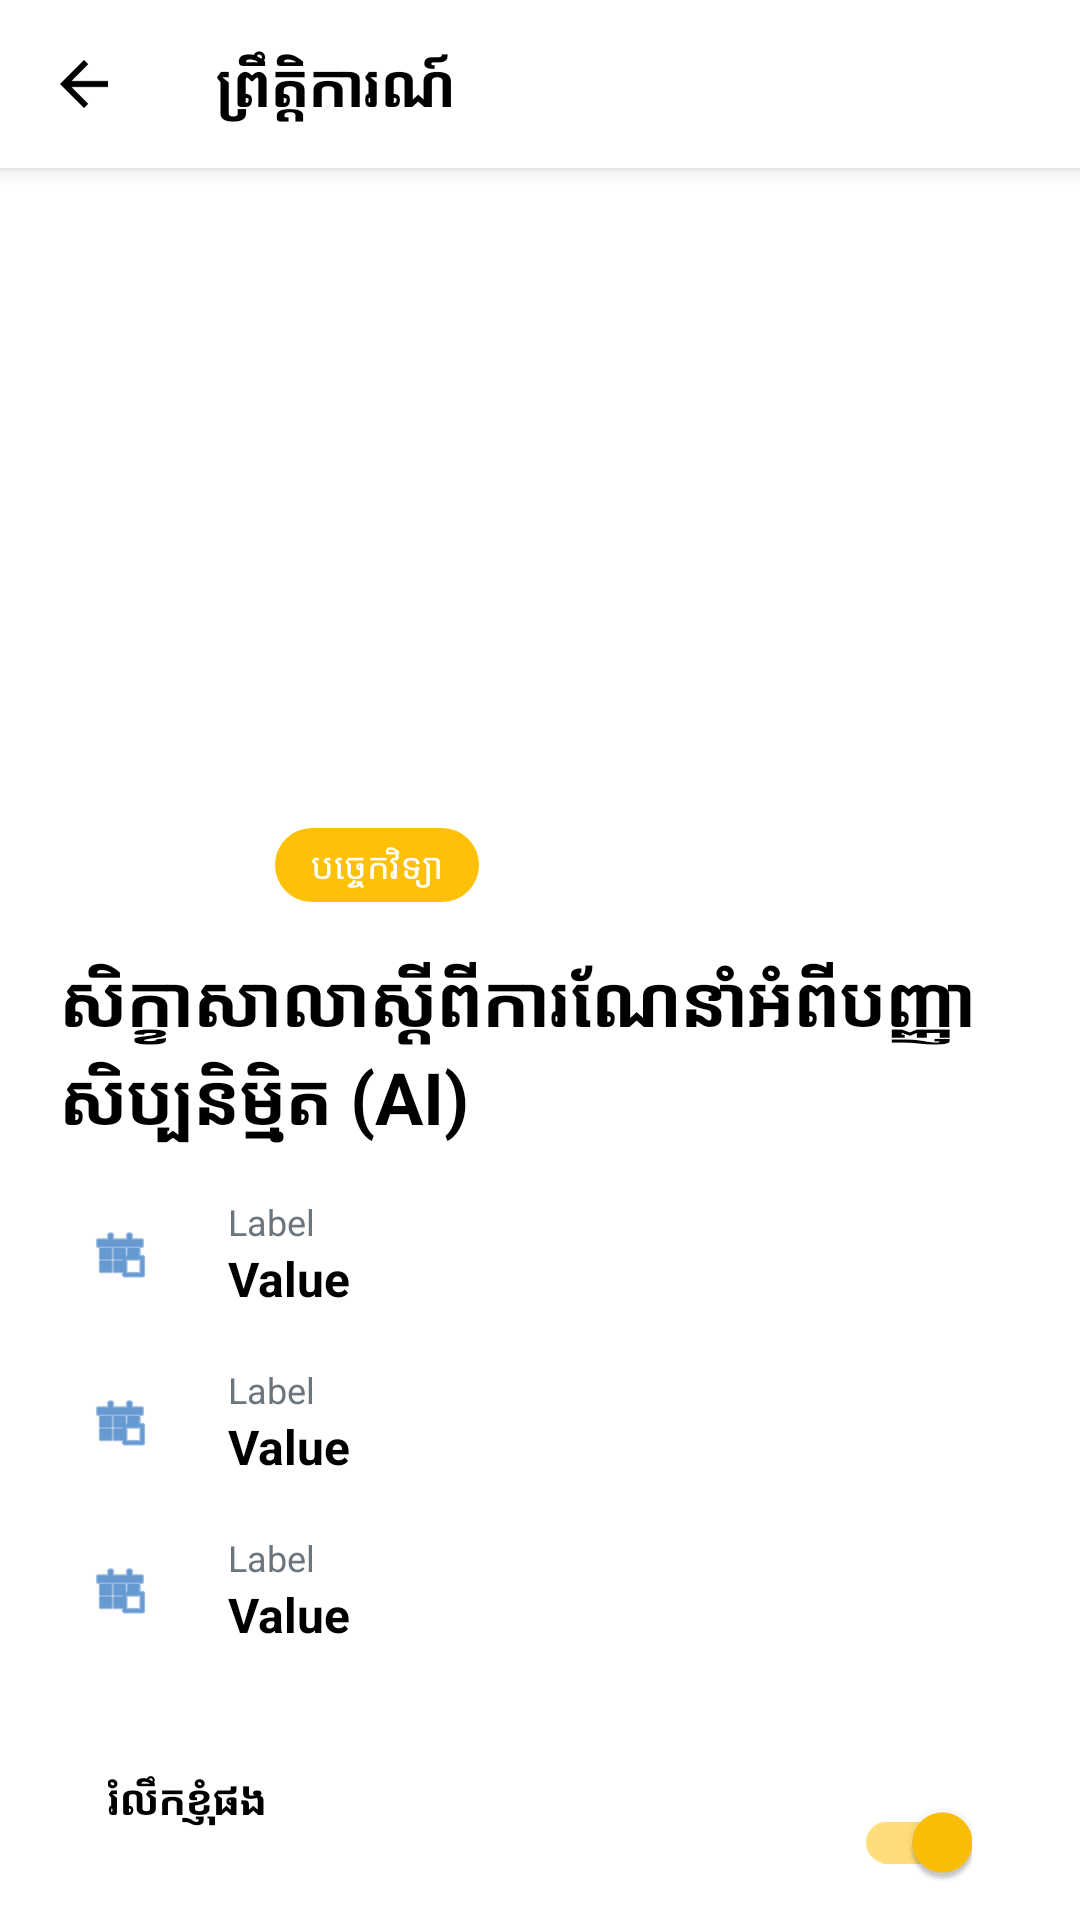

Locate icon controls on the screen. Image size 1080*1920, boxes as (x1, y1, x2, y2).
today: (96, 1232, 145, 1278), (96, 1400, 145, 1446), (96, 1568, 145, 1614)
